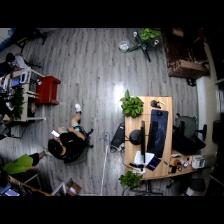normal: (48, 106, 89, 161), (1, 152, 49, 176), (5, 52, 30, 67)
